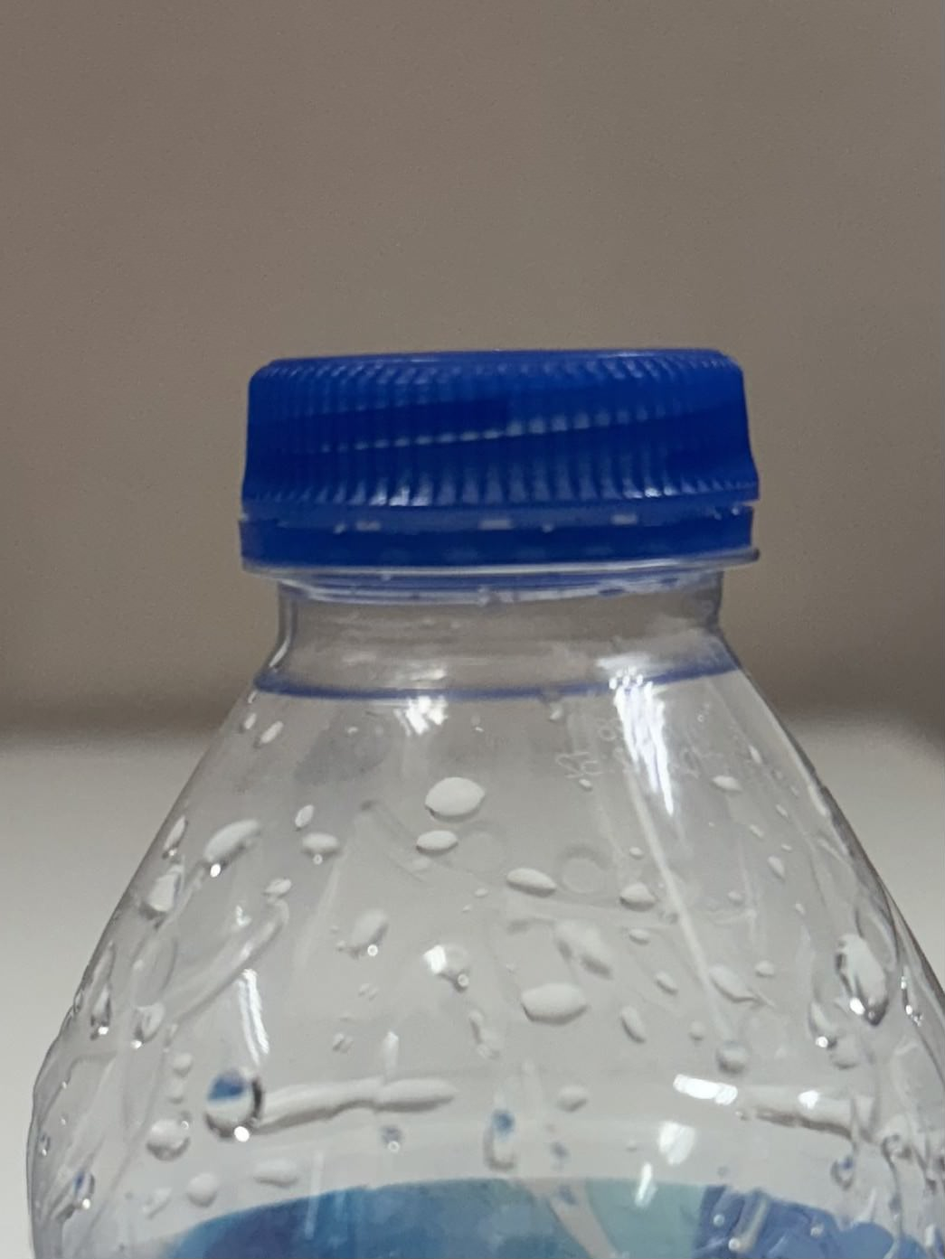closed_cap: (234, 342, 765, 592)
